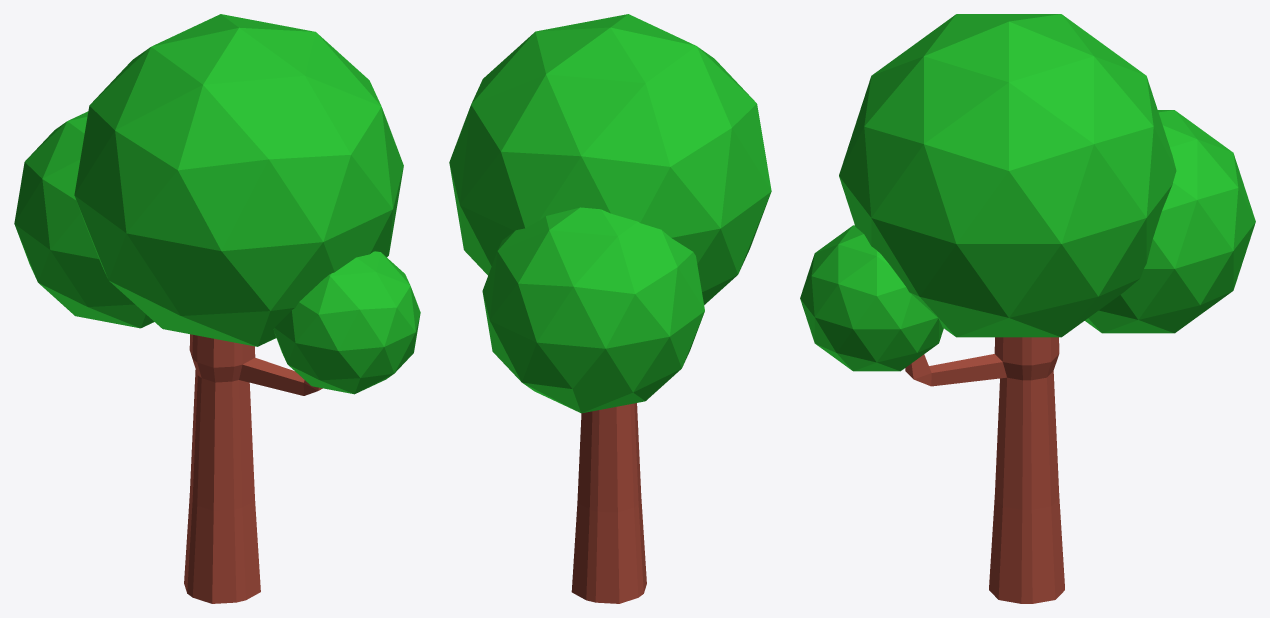
The model's file is tree 1.fbx.
3 views of the same model, side by side, from view 1: azimuth 30°, elevation 25°; view 2: azimuth 150°, elevation 25°; view 3: azimuth 270°, elevation 25° (orthographic). The views are drawn at different scales.
Visible parts, largest first — view 1: Icosphere, Cube, Icosphere.002, Icosphere.001; view 2: Icosphere, Icosphere.001, Cube; view 3: Icosphere, Cube, Icosphere.001, Icosphere.002.
Boxes of the visible parts, x1,y1,x2,y2 form: Icosphere: (74, 14, 403, 346); Cube: (184, 334, 322, 603); Icosphere.002: (273, 251, 420, 394); Icosphere.001: (14, 111, 153, 328); Icosphere: (449, 14, 771, 304); Icosphere.001: (482, 207, 704, 413); Cube: (571, 403, 646, 603); Icosphere: (839, 14, 1176, 337); Cube: (905, 337, 1064, 603); Icosphere.001: (1085, 110, 1255, 333); Icosphere.002: (800, 225, 943, 371).
Bounding box in the file's own units: 650 × 1245 × 902.
